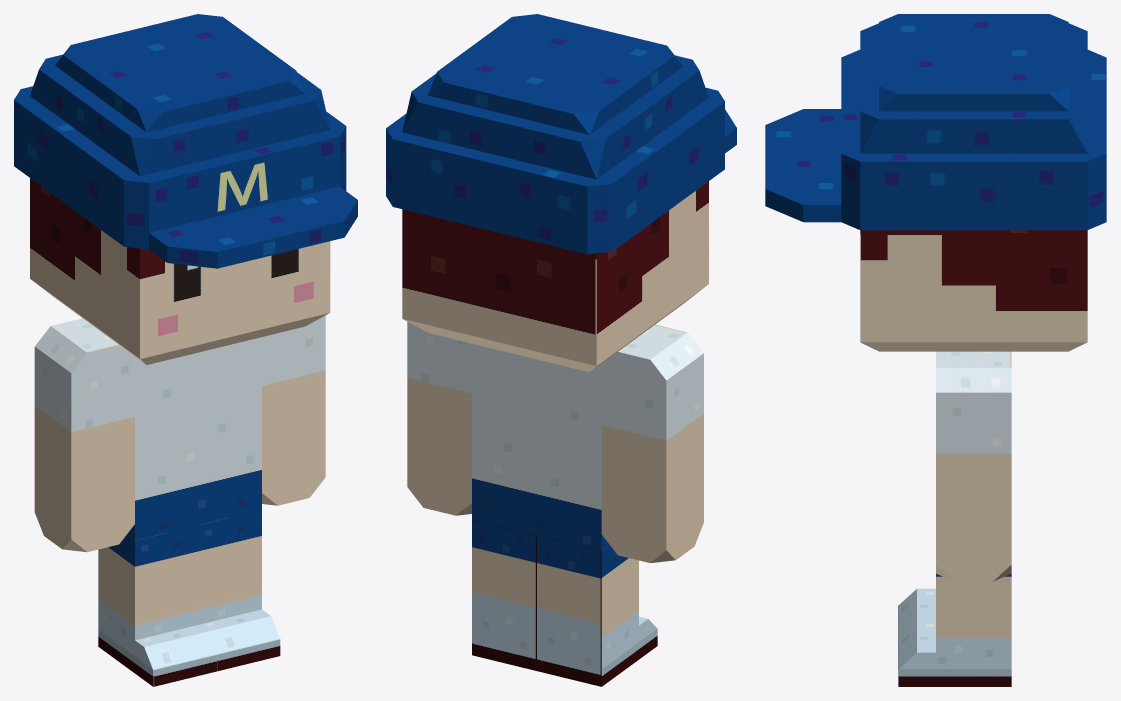
File: NPC ML.FBX
3 views of the same model, side by side, from view 1: azimuth 30°, elevation 25°; view 2: azimuth 150°, elevation 25°; view 3: azimuth 270°, elevation 25° (orthographic). The views are drawn at different scales.
Parts seen in each view (by area): view 1: Box030, Box004, Box011, Box022, Box008, Box006; view 2: Box030, Box004, Box011, Box022, Box008, Box006; view 3: Box030, Box008, Box006, Box022.
Part boxes in pixels (left/top/right/bottom): Box030: left=14, top=14, right=357, bottom=364; Box004: left=127, top=337, right=261, bottom=540; Box011: left=34, top=318, right=134, bottom=552; Box022: left=98, top=525, right=216, bottom=686; Box008: left=262, top=315, right=325, bottom=505; Box006: left=198, top=509, right=280, bottom=671; Box030: left=386, top=14, right=736, bottom=372; Box004: left=472, top=343, right=609, bottom=551; Box011: left=601, top=324, right=703, bottom=563; Box022: left=537, top=535, right=657, bottom=686; Box008: left=407, top=322, right=471, bottom=515; Box006: left=472, top=520, right=536, bottom=670; Box030: left=765, top=14, right=1106, bottom=351; Box008: left=936, top=351, right=1011, bottom=581; Box006: left=898, top=574, right=1011, bottom=686; Box022: left=898, top=588, right=935, bottom=637.
Bounding box in the file's own units: 240 × 525 × 270.
